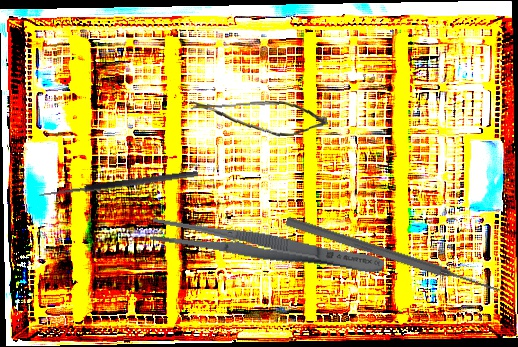Dressing Forceps: (149, 213, 386, 282)
Hook Surgical: (38, 168, 200, 208)
Micro Scissor: (187, 91, 329, 143)
Pusher: (284, 214, 503, 298)
